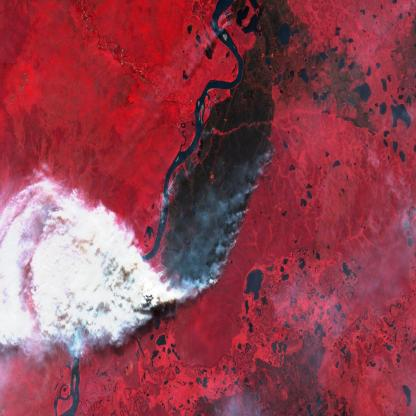fire: (146, 134, 280, 306)
